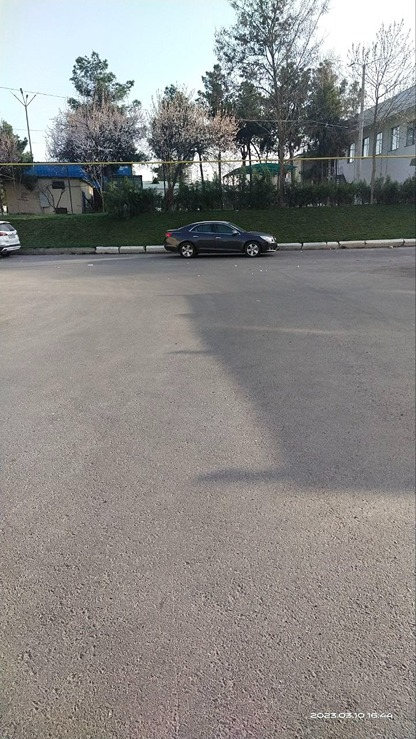car: (165, 221, 282, 262), (0, 213, 19, 266)
tree: (48, 48, 142, 196), (231, 0, 302, 188), (356, 13, 416, 198), (151, 91, 229, 201), (305, 59, 363, 184)
